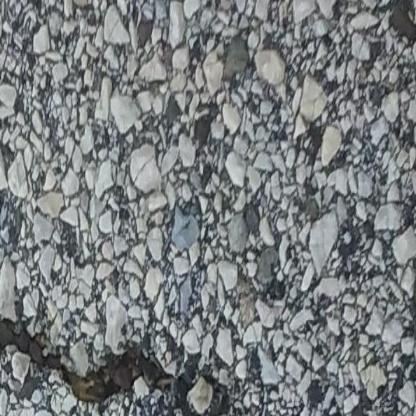Cracks: (0, 304, 253, 416)
